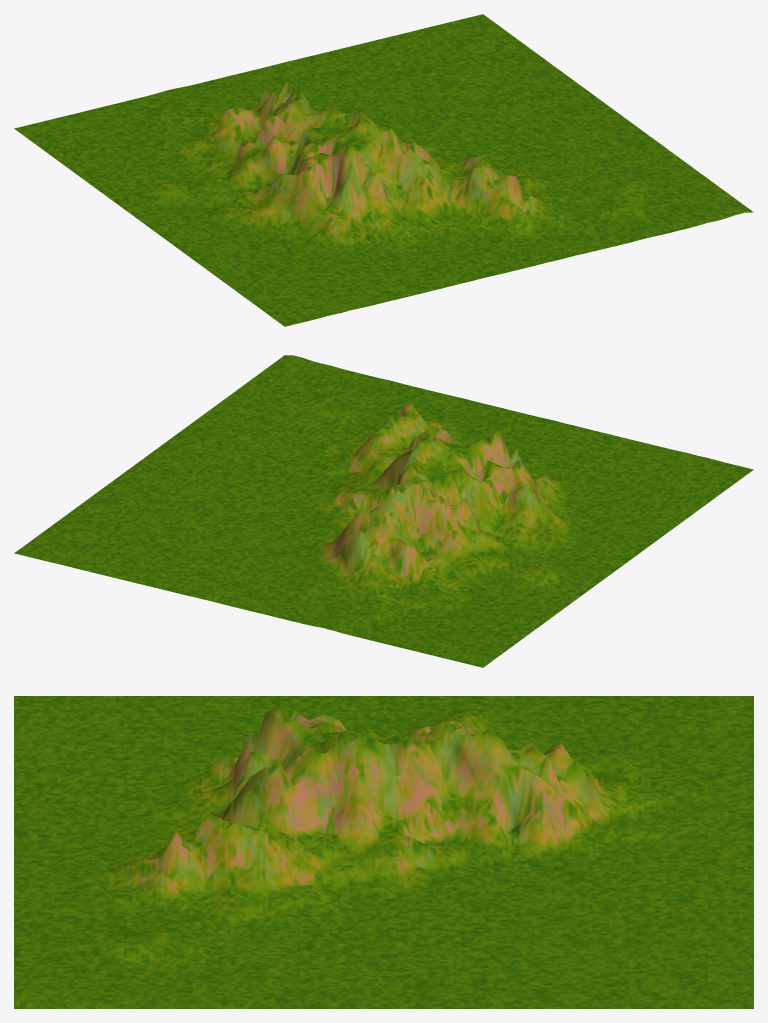
The model's file is WS free terrain 018.obj.
The picture shows the model from 3 angles, top to bottom: view 1: azimuth 30°, elevation 25°; view 2: azimuth 150°, elevation 25°; view 3: azimuth 270°, elevation 25°; orthographic projection. The views are drawn at different scales.
Parts seen in each view (by area): view 1: WS_free_terrain_018; view 2: WS_free_terrain_018; view 3: WS_free_terrain_018.
Boxes of the visible parts, x1,y1,x2,y2 form: WS_free_terrain_018: (14, 14, 753, 326); WS_free_terrain_018: (14, 355, 753, 667); WS_free_terrain_018: (14, 696, 753, 1008).
Bounding box in the file's own units: 7.94 × 1.16 × 7.94.
Materials: 1 (1 with a texture image).
